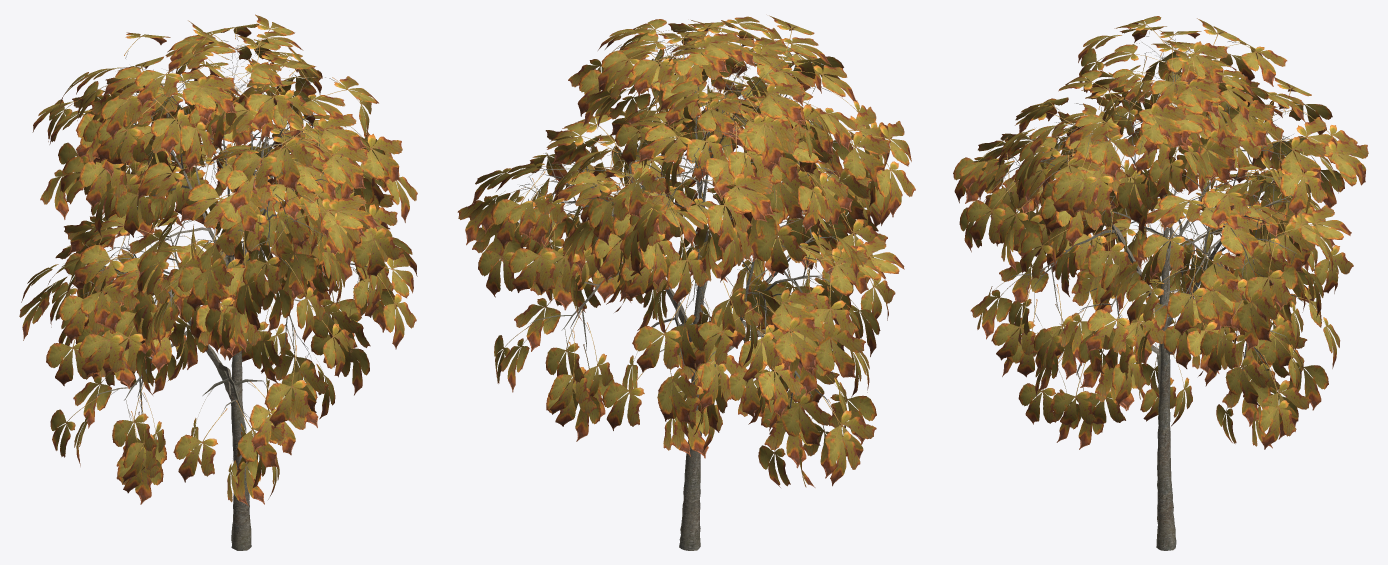
3 renders of one model, left to right at view 1: azimuth 30°, elevation 25°; view 2: azimuth 150°, elevation 25°; view 3: azimuth 270°, elevation 25°, orthographic. The views are drawn at different scales.
Visible parts, largest first — view 1: AL05y; view 2: AL05y; view 3: AL05y.
Part boxes in pixels (box(x1,y1,x2,y2)): AL05y: box(19, 14, 417, 550); AL05y: box(457, 15, 915, 550); AL05y: box(953, 16, 1368, 550).
Size of the model in its own units: 33.13 by 42.87 by 33.45.
